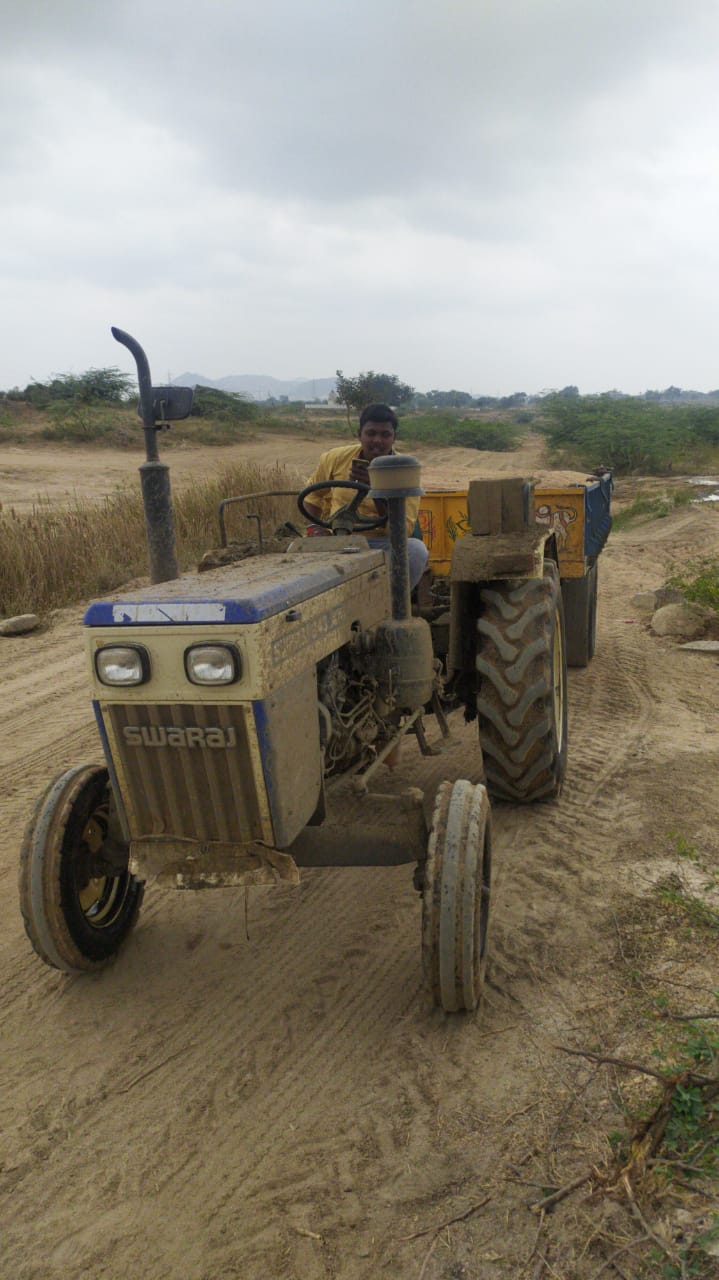license_plate: (121, 833, 313, 894)
